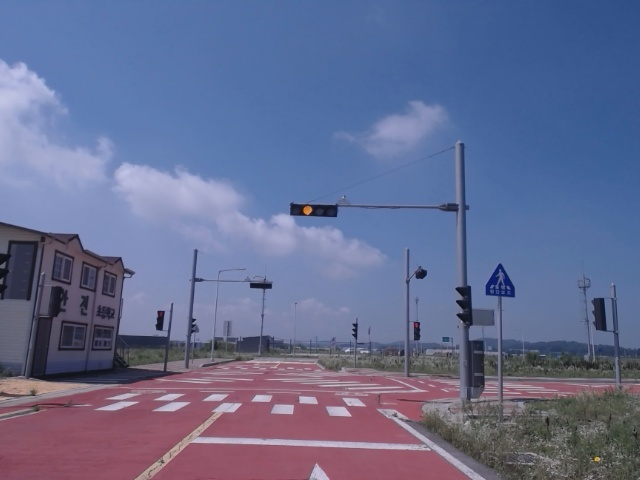orange_4: (288, 202, 338, 219)
